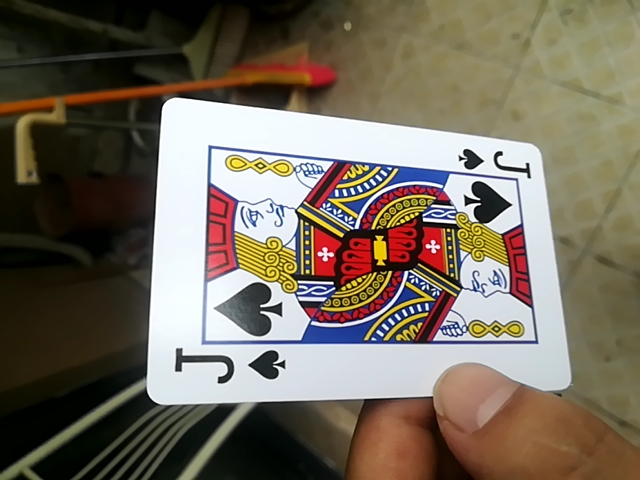ht j: (145, 100, 562, 408)
